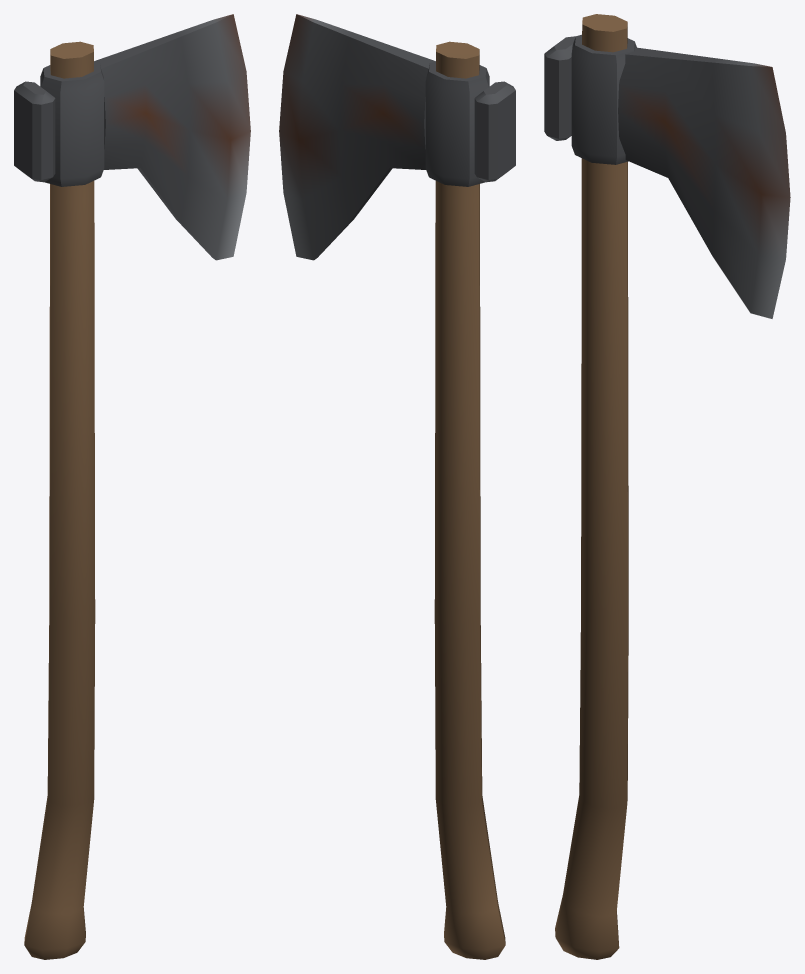
File: hatchet.glb
3 views of the same model, side by side, from view 1: azimuth 30°, elevation 25°; view 2: azimuth 150°, elevation 25°; view 3: azimuth 330°, elevation 25° (orthographic). The views are drawn at different scales.
Parts seen in each view (by area): view 1: hatchet; view 2: hatchet; view 3: hatchet.
Part boxes in pixels (<box>): hatchet: <box>14,14,250,959</box>; hatchet: <box>279,14,515,959</box>; hatchet: <box>544,14,790,959</box>.
Bounding box in the file's own units: 0.158 × 0.5953 × 0.0344.
